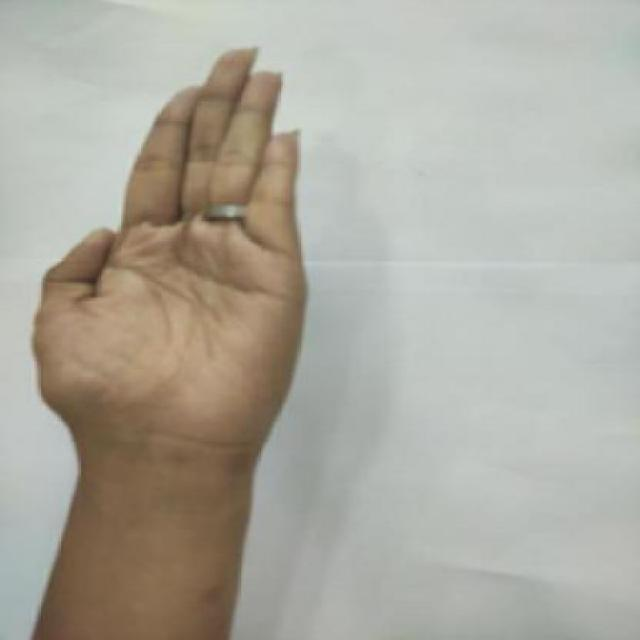without_gloves: (19, 31, 344, 502)
